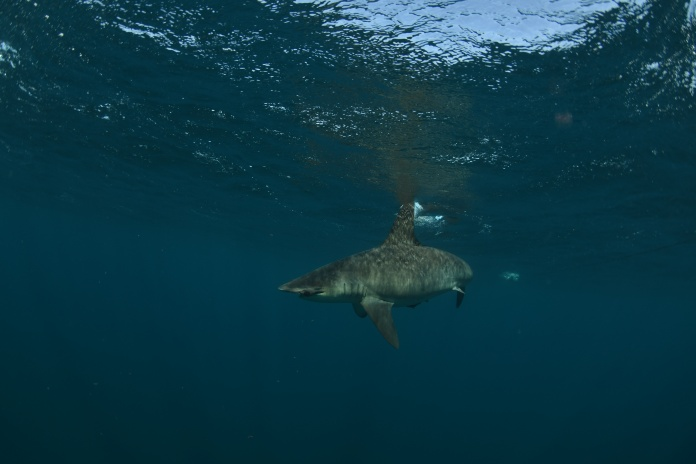Hammer: (249, 191, 506, 370)
